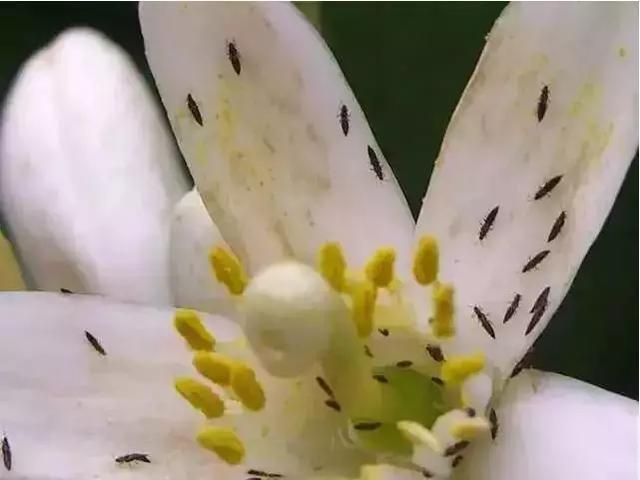Phlaeothripidae: (313, 372, 349, 413), (524, 283, 548, 336), (469, 298, 497, 341), (82, 324, 108, 362), (533, 173, 563, 202), (114, 448, 156, 468), (367, 143, 386, 186), (225, 36, 244, 79), (520, 248, 549, 275), (546, 209, 569, 243), (500, 288, 520, 327), (534, 84, 553, 125), (336, 97, 353, 141), (184, 92, 204, 127), (486, 405, 501, 448), (440, 434, 469, 456), (351, 416, 386, 433), (1, 435, 15, 472)
